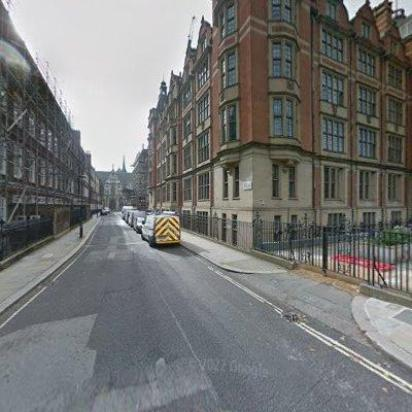stationary-car-onstreet: (134, 210, 150, 234)
stationary-light-truck-onstreet: (140, 209, 182, 247), (121, 206, 133, 221)
